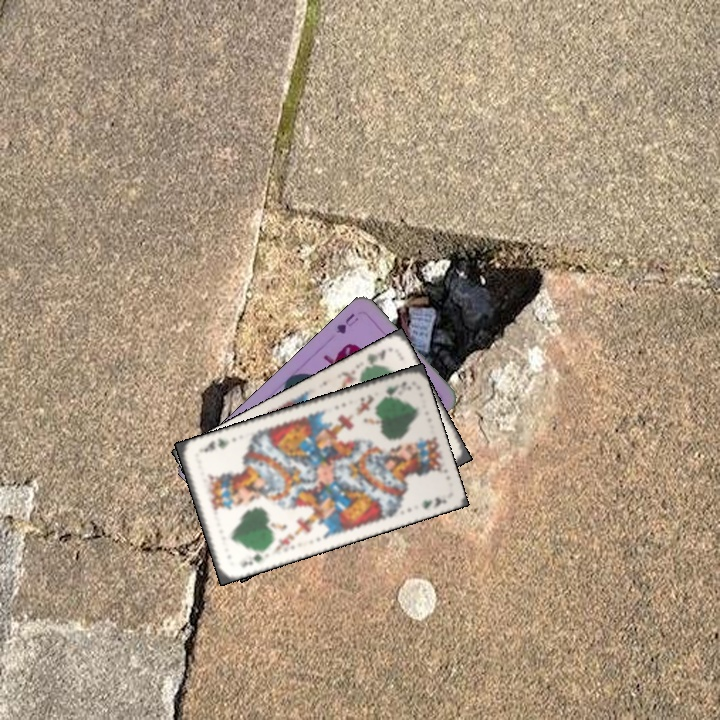GK: (376, 377, 414, 401), (238, 545, 268, 570), (363, 345, 389, 366)
GU: (332, 309, 361, 337)
